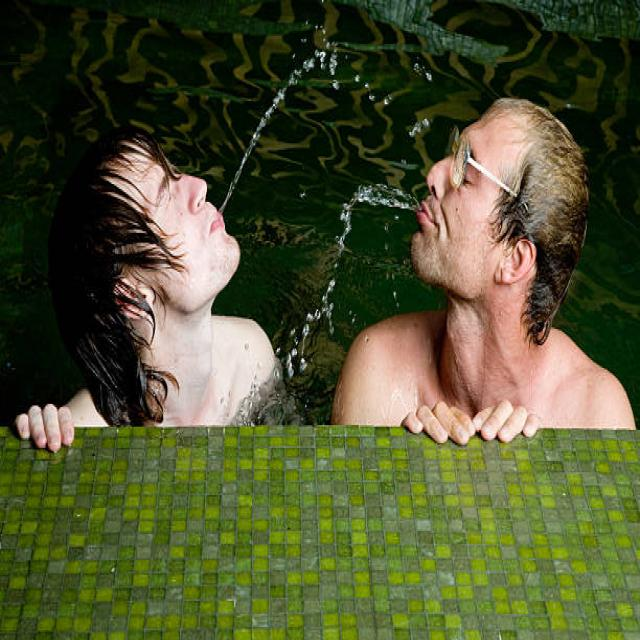Spitting: (393, 93, 590, 395), (46, 108, 246, 390)
